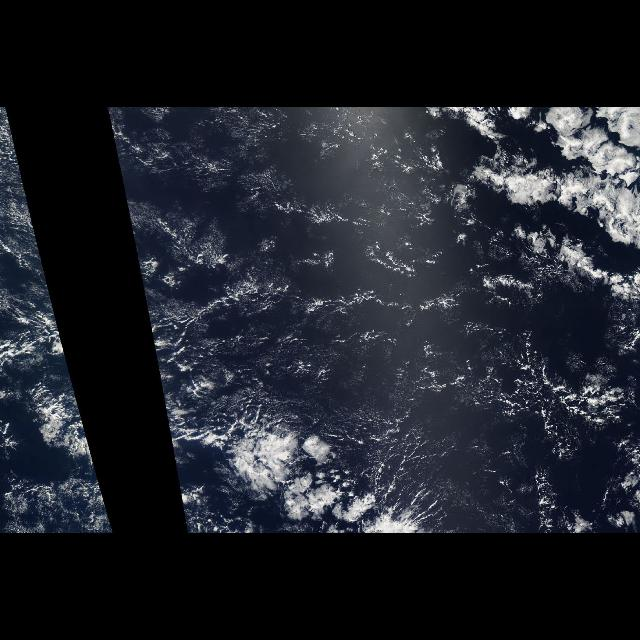Gravel: (234, 282, 630, 448)
Sugar: (107, 108, 369, 384), (1, 108, 74, 384)
